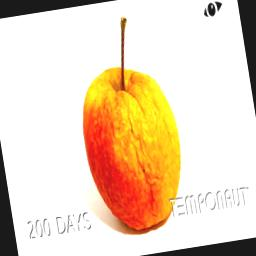Apple Overripe: (62, 0, 197, 240)
